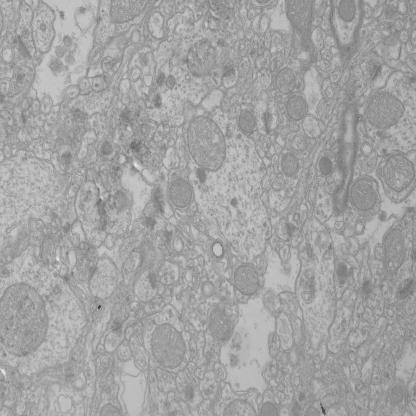mitochondria: (0, 281, 49, 359), (186, 113, 227, 172), (284, 0, 317, 59), (149, 323, 187, 371), (364, 90, 405, 130), (184, 36, 219, 78), (382, 153, 416, 195), (382, 226, 407, 277), (108, 0, 158, 25), (349, 174, 379, 212), (233, 262, 260, 296), (208, 306, 232, 343), (168, 176, 193, 209), (221, 398, 258, 416), (274, 66, 297, 94), (286, 93, 308, 121), (278, 151, 300, 177), (236, 109, 256, 136), (337, 0, 357, 24), (97, 401, 121, 416), (318, 155, 334, 177), (390, 384, 404, 408), (258, 400, 280, 415), (163, 73, 177, 92), (54, 45, 65, 58), (62, 35, 73, 47)
